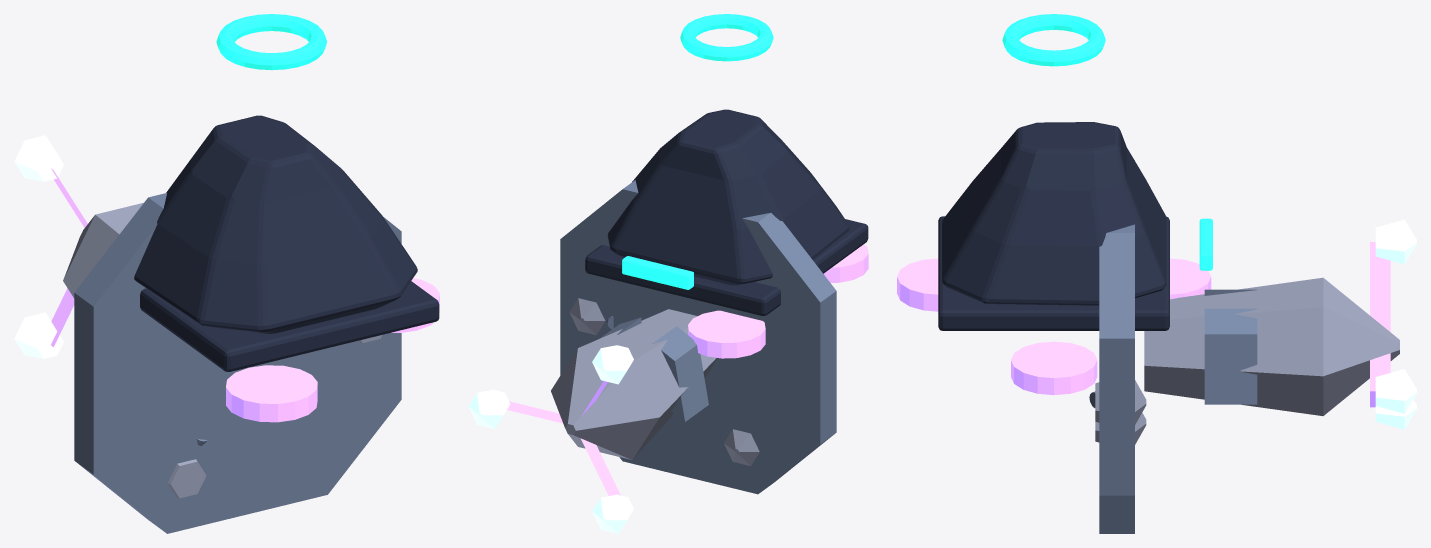
File: lumen_radar.glb
3 views of the same model, side by side, from view 1: azimuth 30°, elevation 25°; view 2: azimuth 150°, elevation 25°; view 3: azimuth 270°, elevation 25° (orthographic). The views are drawn at different scales.
Parts seen in each view (by area): view 1: Geometric levitation plinth, Sensor array · rising signal plinth, Floating central armor slab, Flux suspension pad.002, Sensor induction ring, Tall sensor monolith, Wing lens.001, Wing lens.002, Faceted gravitic foot.002, Triangular phased-array wing.002; view 2: Geometric levitation plinth, Sensor array · rising signal plinth, Tall sensor monolith, Floating central armor slab, Flux suspension pad.001, Sensor induction ring, Phased-array battery cheek, TeamColor, Wing lens, Wing lens.001, Wing lens.002, Flux suspension pad.002 (+4 smaller); view 3: Sensor array · rising signal plinth, Tall sensor monolith, Geometric levitation plinth, Floating central armor slab, Phased-array battery cheek.001, Flux suspension pad, Sensor induction ring, Flux suspension pad.002, Triangular phased-array wing.001, Wing lens, Wing lens.001, Flux suspension pad.001 (+2 smaller).
Boxes of the visible parts, x1=… form: Geometric levitation plinth: x1=74, y1=193, x2=401, y2=533; Sensor array · rising signal plinth: x1=134, y1=115, x2=417, y2=333; Floating central armor slab: x1=140, y1=281, x2=439, y2=371; Flux suspension pad.002: x1=226, y1=365, x2=317, y2=422; Sensor induction ring: x1=216, y1=14, x2=326, y2=70; Tall sensor monolith: x1=63, y1=202, x2=143, y2=298; Wing lens.001: x1=14, y1=135, x2=63, y2=181; Wing lens.002: x1=14, y1=312, x2=63, y2=358; Faceted gravitic foot.002: x1=168, y1=459, x2=206, y2=498; Triangular phased-array wing.002: x1=51, y1=288, x2=74, y2=346; Geometric levitation plinth: x1=560, y1=180, x2=836, y2=494; Sensor array · rising signal plinth: x1=607, y1=109, x2=849, y2=285; Tall sensor monolith: x1=551, y1=309, x2=717, y2=459; Floating central armor slab: x1=585, y1=219, x2=868, y2=315; Flux suspension pad.001: x1=688, y1=310, x2=765, y2=358; Sensor induction ring: x1=680, y1=14, x2=773, y2=61; Phased-array battery cheek: x1=653, y1=326, x2=708, y2=421; TeamColor: x1=622, y1=256, x2=693, y2=289; Wing lens: x1=468, y1=389, x2=510, y2=428; Wing lens.001: x1=592, y1=345, x2=633, y2=384; Wing lens.002: x1=592, y1=494, x2=633, y2=533; Flux suspension pad.002: x1=823, y1=244, x2=868, y2=282; Sensor array · rising signal plinth: x1=942, y1=122, x2=1166, y2=305; Tall sensor monolith: x1=1144, y1=277, x2=1399, y2=415; Geometric levitation plinth: x1=1099, y1=160, x2=1134, y2=533; Floating central armor slab: x1=938, y1=216, x2=1169, y2=330; Phased-array battery cheek.001: x1=1204, y1=308, x2=1257, y2=404; Flux suspension pad: x1=1011, y1=341, x2=1097, y2=395; Sensor induction ring: x1=1002, y1=14, x2=1105, y2=66; Flux suspension pad.002: x1=897, y1=258, x2=938, y2=311; Triangular phased-array wing.001: x1=1370, y1=242, x2=1390, y2=331; Wing lens: x1=1375, y1=369, x2=1416, y2=413; Wing lens.001: x1=1375, y1=219, x2=1416, y2=264; Flux suspension pad.001: x1=1170, y1=258, x2=1211, y2=299.
Size of the model in its own units: 1.81 by 2.73 by 2.77.
